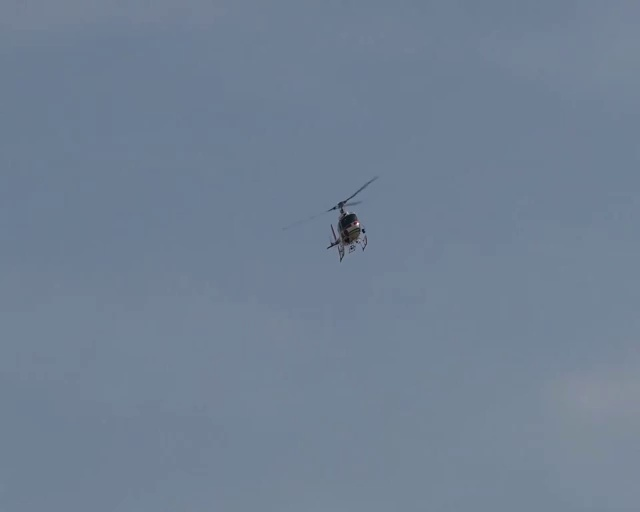HELICOPTER: (281, 175, 379, 262)
